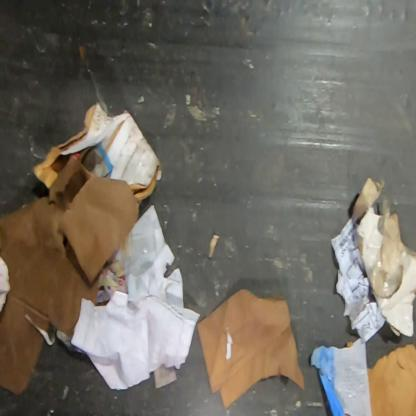cardboard: (0, 154, 140, 396), (31, 102, 161, 207), (351, 176, 415, 339), (367, 342, 415, 415), (346, 340, 354, 348)
